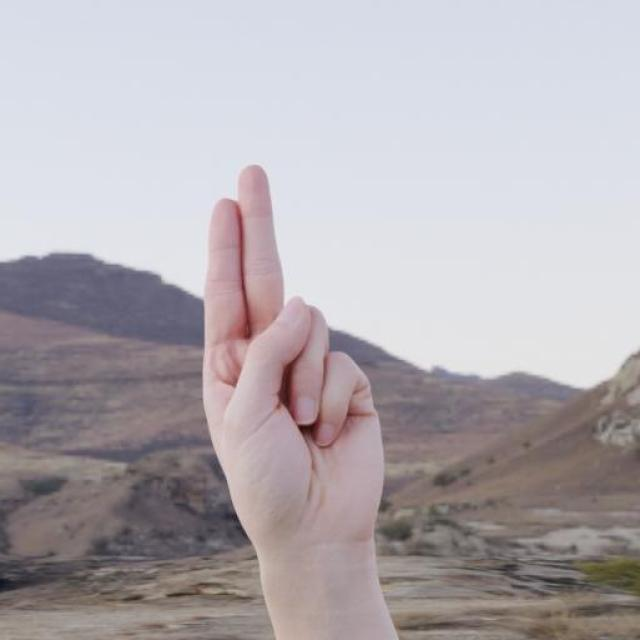U: (198, 163, 390, 536)
